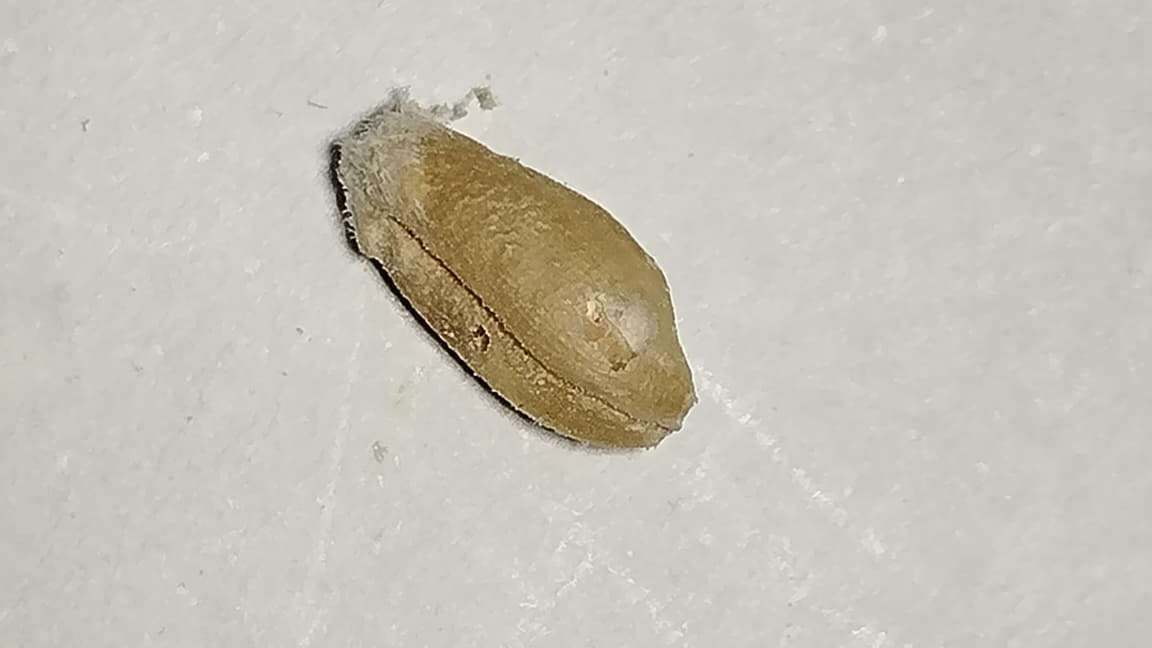damage: (334, 89, 694, 444)
insectdamage: (557, 281, 661, 372), (459, 313, 507, 358)
molddamage: (328, 85, 499, 158)
